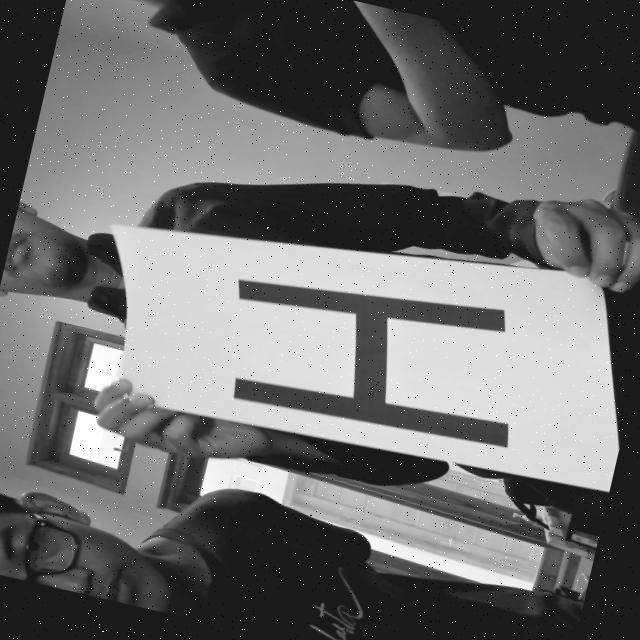h: (206, 232, 546, 472)
